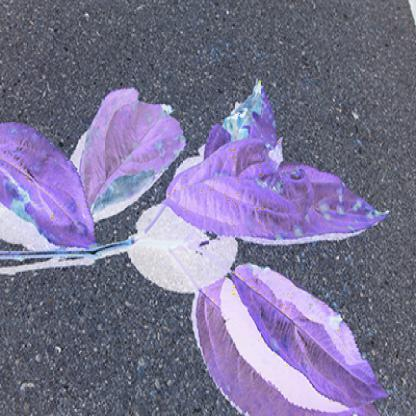Apple Scab Leaf: (166, 143, 394, 269), (228, 251, 389, 413), (84, 82, 183, 238), (1, 118, 95, 279)
